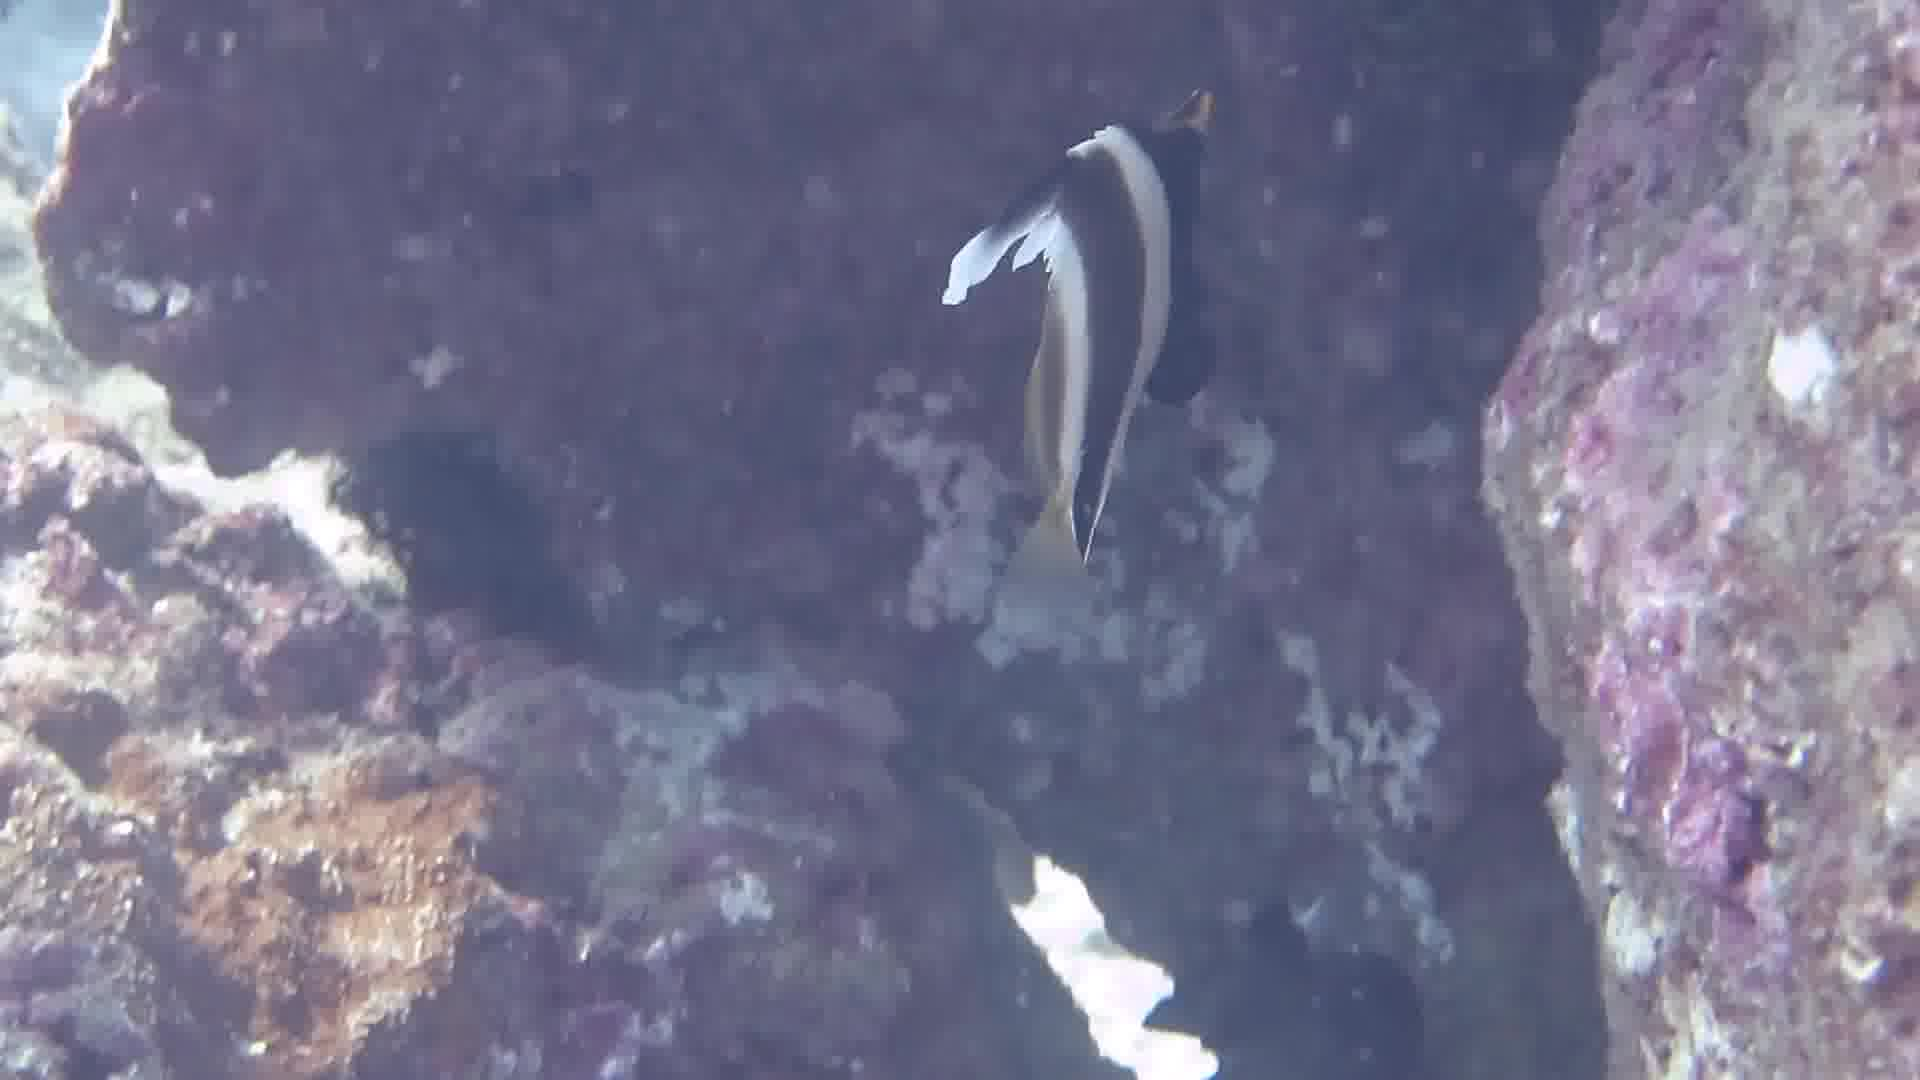Heniochus chrysostomus: (798, 1, 1443, 589)
